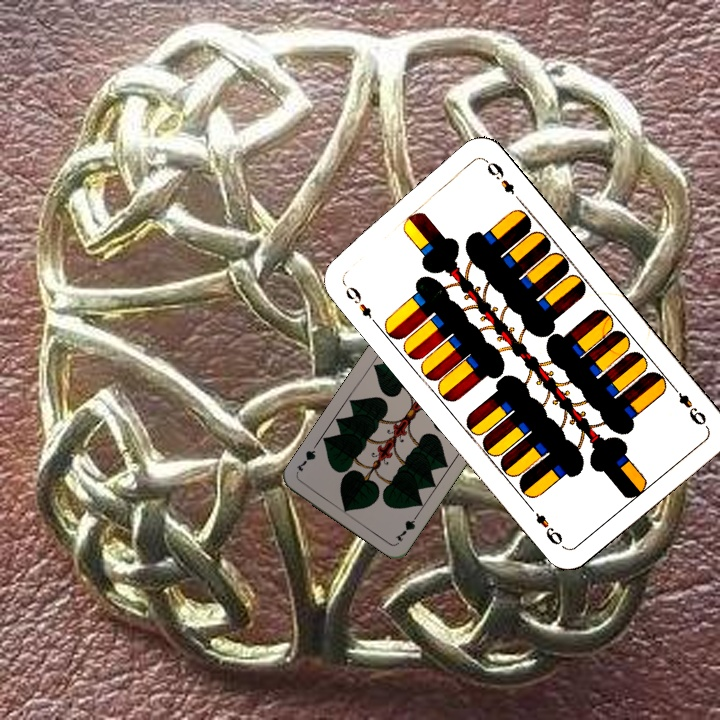E9: (337, 276, 379, 327), (667, 380, 709, 428)
G7: (391, 508, 422, 544)
